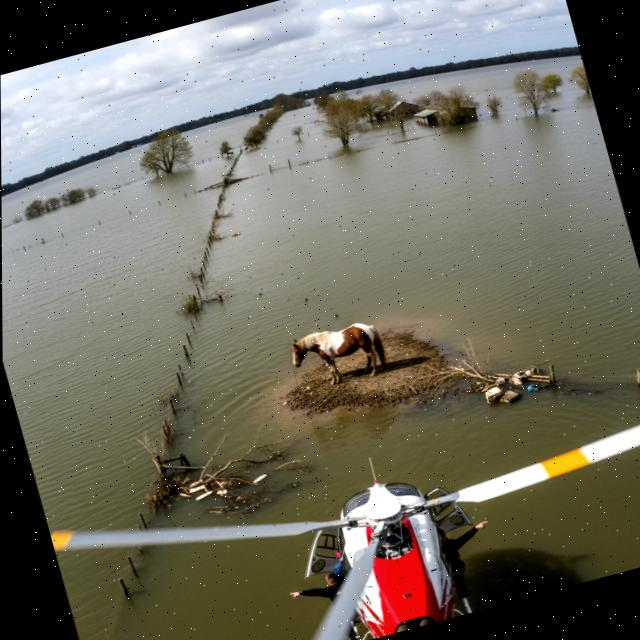horse: (271, 300, 412, 406)
